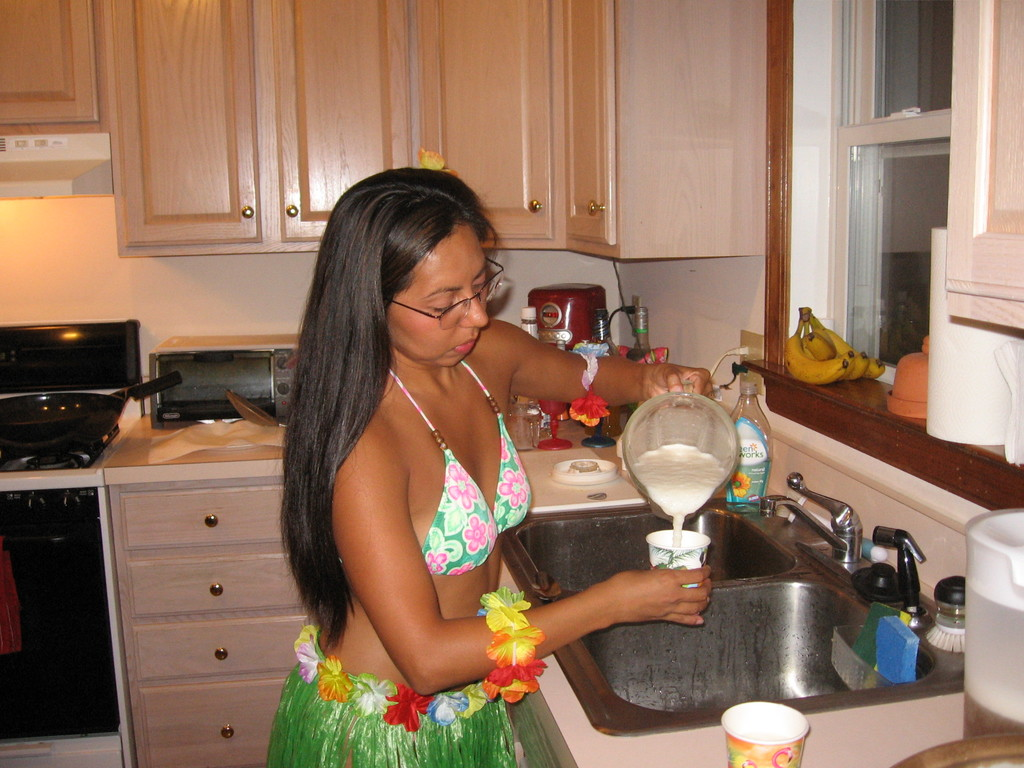tap: (750, 473, 858, 561)
